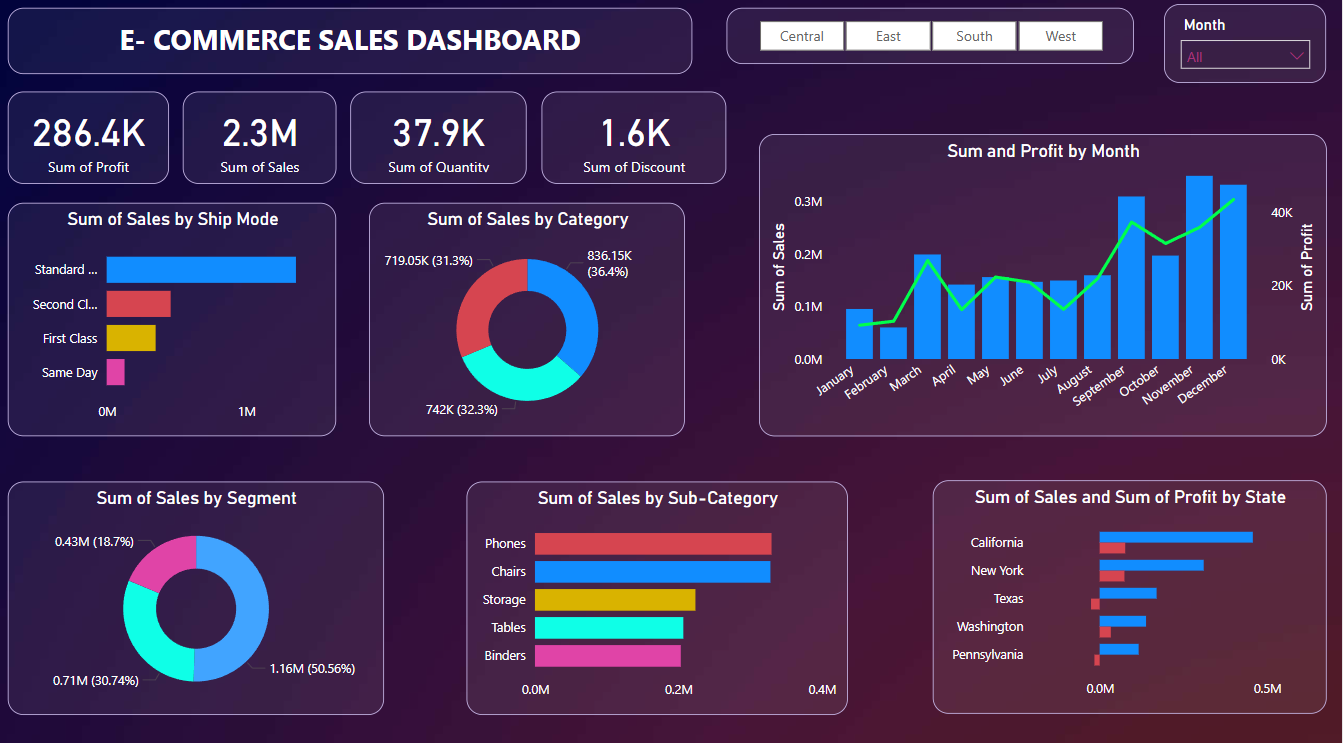

The dashboard page shown, as its layout file describes it:
{"tool":"powerbi","page":{"name":"Dashboard","canvas":[1280,720],"ordinal":5},"visuals":[{"type":"textbox","box":[8.3,13.1,652.4,63.1],"z":0},{"type":"lineClusteredColumnComboChart","title":"Sum and Profit by Month","fields":{"Category":["Ecommerce Sales Analysis xlsx - Data (1).Order Date.Variation.Date Hierarchy.Month"],"Y":["Sum(Ecommerce Sales Analysis xlsx - Data (1).Sales)"],"Y2":["Sum(Ecommerce Sales Analysis xlsx - Data (1).Profit)"]},"box":[723.8,133.3,540.5,288.1],"z":1000},{"type":"donutChart","fields":{"Category":["Ecommerce Sales Analysis xlsx - Data (1).Category"],"Y":["Sum(Ecommerce Sales Analysis xlsx - Data (1).Sales)"]},"box":[352.4,198.8,301.2,222.6],"z":2000},{"type":"clusteredBarChart","fields":{"Y":["Sum(Ecommerce Sales Analysis xlsx - Data (1).Sales)"],"Category":["Ecommerce Sales Analysis xlsx - Data (1).Sub-Category"]},"box":[445.2,464.3,363.1,222.6],"z":3000},{"type":"slicer","fields":{"Values":["Ecommerce Sales Analysis xlsx - Data (1).Region"]},"box":[693.4,13.2,388.2,53.9],"z":4000},{"type":"slicer","fields":{"Values":["Ecommerce Sales Analysis xlsx - Data (1).Order Date.Variation.Date Hierarchy.Month"]},"box":[1109.5,9.5,154.8,75],"z":5000},{"type":"clusteredBarChart","fields":{"Category":["Ecommerce Sales Analysis xlsx - Data (1).State"],"Y":["Sum(Ecommerce Sales Analysis xlsx - Data (1).Sales)","Sum(Ecommerce Sales Analysis xlsx - Data (1).Profit)"]},"box":[889.3,463.1,375,222.6],"z":6000},{"type":"card","fields":{"Values":["Sum(Ecommerce Sales Analysis xlsx - Data (1).Profit)"]},"box":[8.3,92.9,153.6,88.1],"z":7000},{"type":"card","fields":{"Values":["Sum(Ecommerce Sales Analysis xlsx - Data (1).Sales)"]},"box":[175,92.9,146.4,88.1],"z":8000},{"type":"card","fields":{"Values":["Sum(Ecommerce Sales Analysis xlsx - Data (1).Quantity)"]},"box":[334.5,92.9,167.9,88.1],"z":9000},{"type":"card","fields":{"Values":["Sum(Ecommerce Sales Analysis xlsx - Data (1).Discount)"]},"box":[516.7,92.9,176.2,88.1],"z":10000},{"type":"clusteredBarChart","fields":{"Category":["Ecommerce Sales Analysis xlsx - Data (1).Ship Mode"],"Y":["Sum(Ecommerce Sales Analysis xlsx - Data (1).Sales)"]},"box":[8.3,198.8,313.1,222.6],"z":11000},{"type":"pieChart","fields":{"Category":["Ecommerce Sales Analysis xlsx - Data (1).Segment"],"Y":["Sum(Ecommerce Sales Analysis xlsx - Data (1).Sales)"]},"box":[8.3,464.3,358.3,222.6],"z":12000}]}

Visuals, with their boxes in screenshot pixels (x1, y1, x2, y2), scaled from the page's 1280x720 canvas onto the 1343x743 screenshot:
textbox: crop(9, 14, 693, 79)
"Sum and Profit by Month" lineClusteredColumnComboChart: crop(759, 138, 1327, 435)
donutChart - Ecommerce Sales Analysis xlsx - Data (1).Category x Sum(Ecommerce Sales Analysis xlsx - Data (1).Sales): crop(370, 205, 686, 435)
clusteredBarChart - Sum(Ecommerce Sales Analysis xlsx - Data (1).Sales) x Ecommerce Sales Analysis xlsx - Data (1).Sub-Category: crop(467, 479, 848, 709)
slicer - Ecommerce Sales Analysis xlsx - Data (1).Region: crop(728, 14, 1135, 69)
slicer - Ecommerce Sales Analysis xlsx - Data (1).Order Date.Variation.Date Hierarchy.Month: crop(1164, 10, 1327, 87)
clusteredBarChart - Ecommerce Sales Analysis xlsx - Data (1).State x Sum(Ecommerce Sales Analysis xlsx - Data (1).Sales): crop(933, 478, 1327, 708)
card - Sum(Ecommerce Sales Analysis xlsx - Data (1).Profit): crop(9, 96, 170, 187)
card - Sum(Ecommerce Sales Analysis xlsx - Data (1).Sales): crop(184, 96, 337, 187)
card - Sum(Ecommerce Sales Analysis xlsx - Data (1).Quantity): crop(351, 96, 527, 187)
card - Sum(Ecommerce Sales Analysis xlsx - Data (1).Discount): crop(542, 96, 727, 187)
clusteredBarChart - Ecommerce Sales Analysis xlsx - Data (1).Ship Mode x Sum(Ecommerce Sales Analysis xlsx - Data (1).Sales): crop(9, 205, 337, 435)
pieChart - Ecommerce Sales Analysis xlsx - Data (1).Segment x Sum(Ecommerce Sales Analysis xlsx - Data (1).Sales): crop(9, 479, 385, 709)
